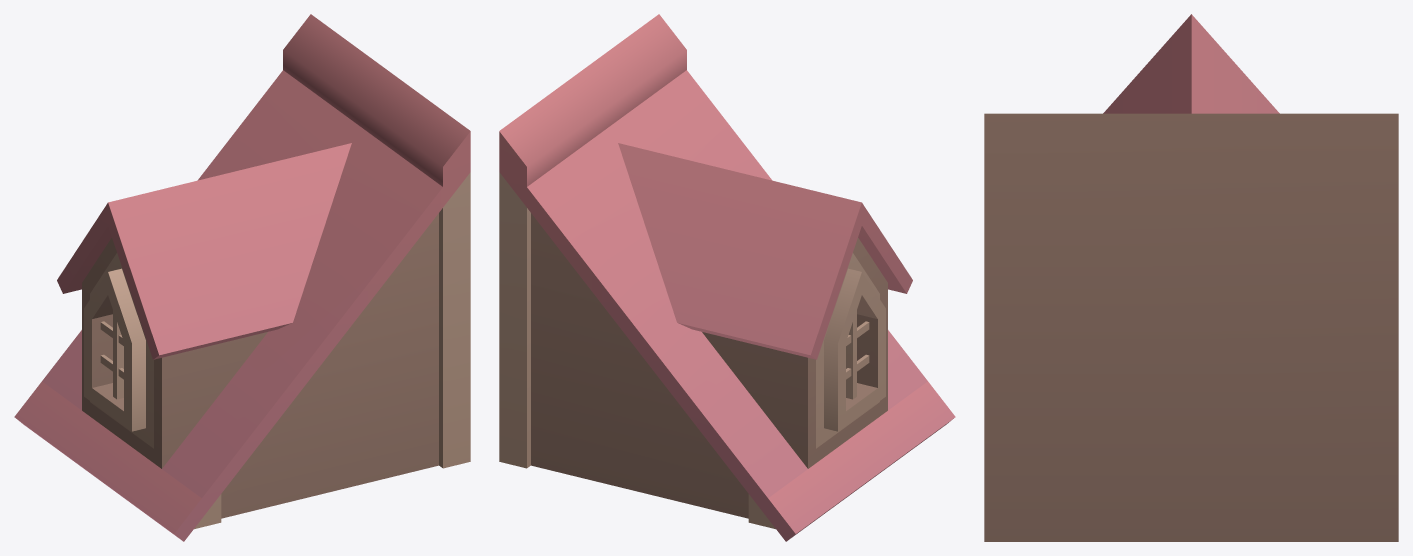
File: roof-high-window.glb
The picture shows the model from 3 angles, left to right: view 1: azimuth 30°, elevation 25°; view 2: azimuth 150°, elevation 25°; view 3: azimuth 270°, elevation 25°; orthographic projection. The views are drawn at different scales.
Visible parts, largest first — view 1: roof-high-window; view 2: roof-high-window; view 3: roof-high-window.
Part boxes in pixels (x1=…): roof-high-window: x1=14, y1=14, x2=470, y2=541; roof-high-window: x1=499, y1=14, x2=955, y2=541; roof-high-window: x1=984, y1=14, x2=1398, y2=541.
Bounding box in the file's own units: 1.07 × 1.18 × 1.
